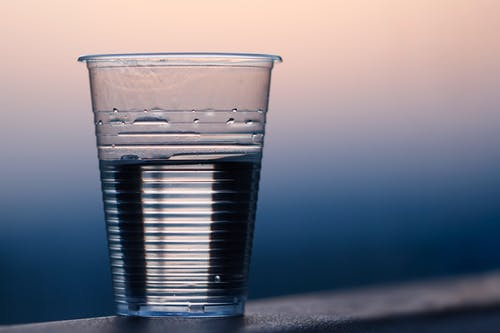plastic_glass: (73, 46, 290, 327)
